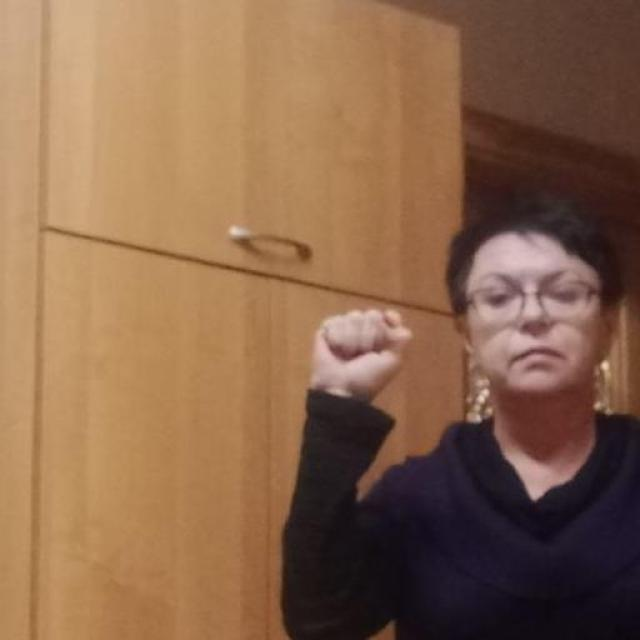hand: (308, 306, 412, 402)
